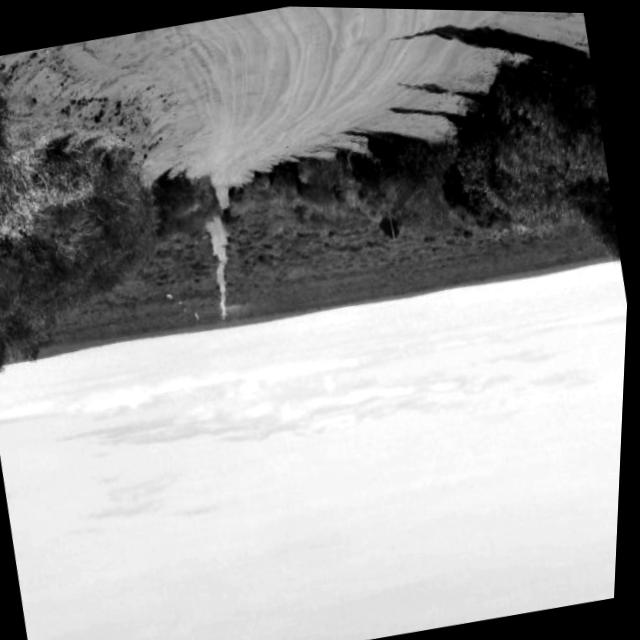cleat: (106, 5, 630, 396)
